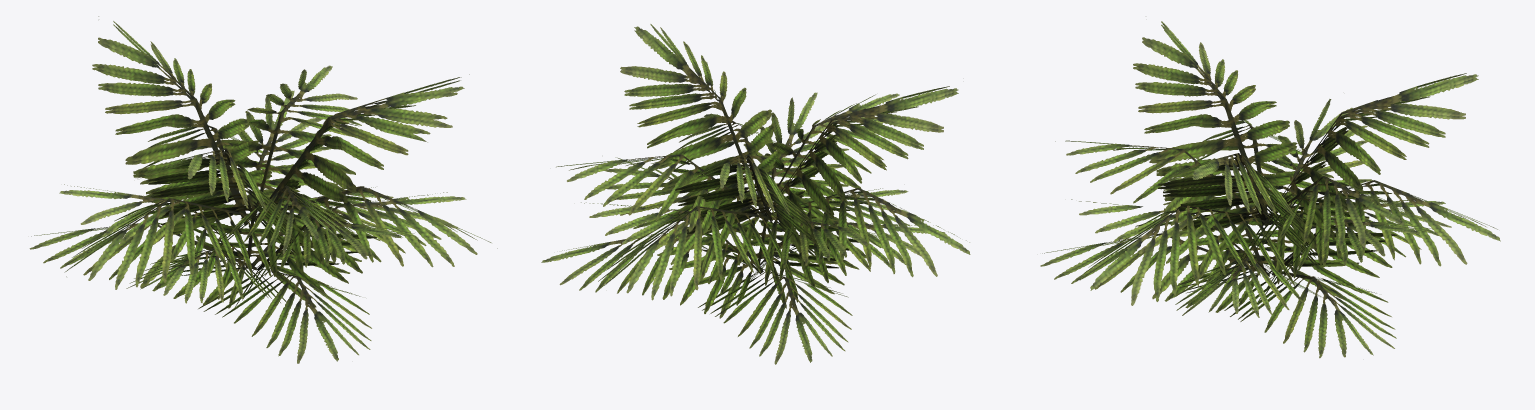
The model's file is tropic_bush_v4.glb.
3 views of the same model, side by side, from view 1: azimuth 30°, elevation 25°; view 2: azimuth 150°, elevation 25°; view 3: azimuth 270°, elevation 25° (orthographic). The views are drawn at different scales.
Visible parts, largest first — view 1: fern_tropical_b; view 2: fern_tropical_b; view 3: fern_tropical_b.
Part boxes in pixels (left/top/right/bottom): fern_tropical_b: left=29, top=16, right=497, bottom=363; fern_tropical_b: left=541, top=24, right=970, bottom=364; fern_tropical_b: left=1040, top=21, right=1500, bottom=358.
Bounding box in the file's own units: 7.32 × 3.62 × 7.65.
Materials: 1 (1 with a texture image).
